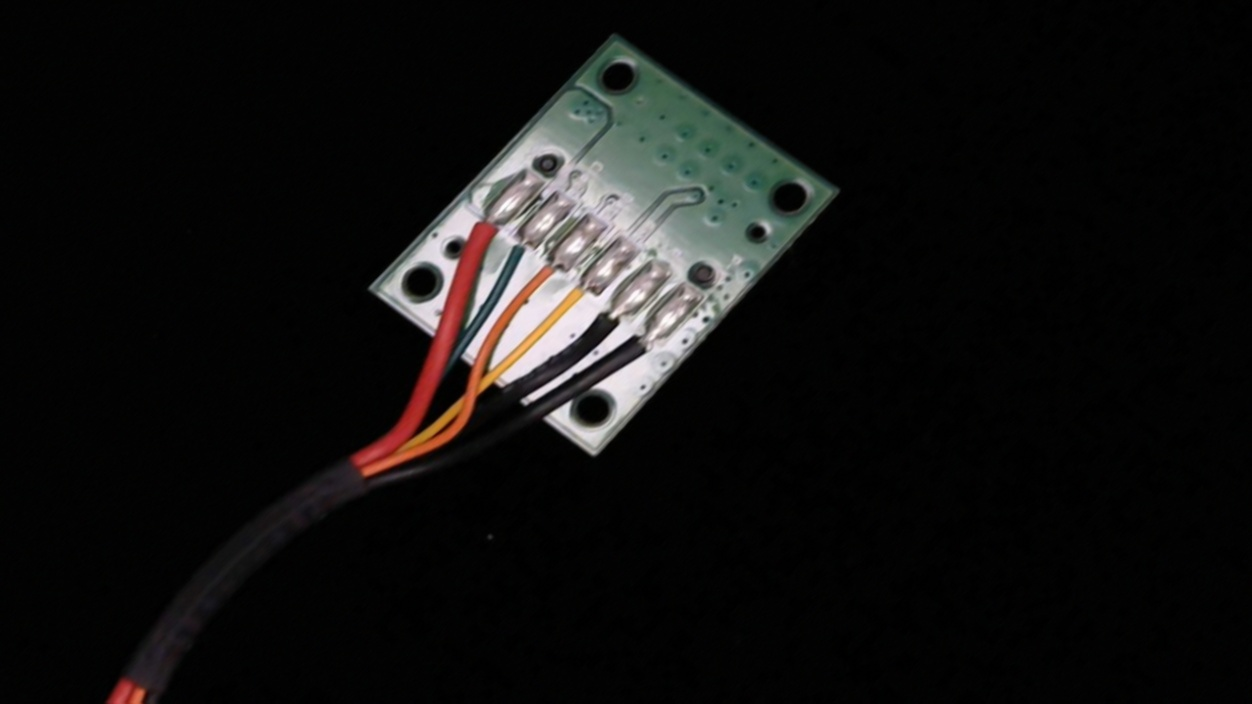Black: (557, 286, 648, 367)
Black1: (600, 310, 684, 386)
Green: (478, 217, 553, 282)
Orange: (498, 244, 582, 317)
Red: (434, 196, 523, 271)
Yellow: (526, 265, 617, 346)
